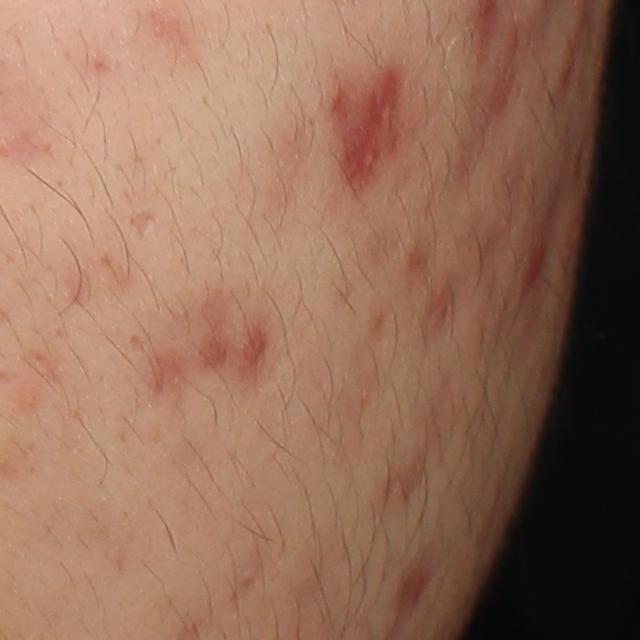atrophic_scar: (343, 67, 403, 197), (239, 319, 283, 403), (125, 207, 161, 241)
